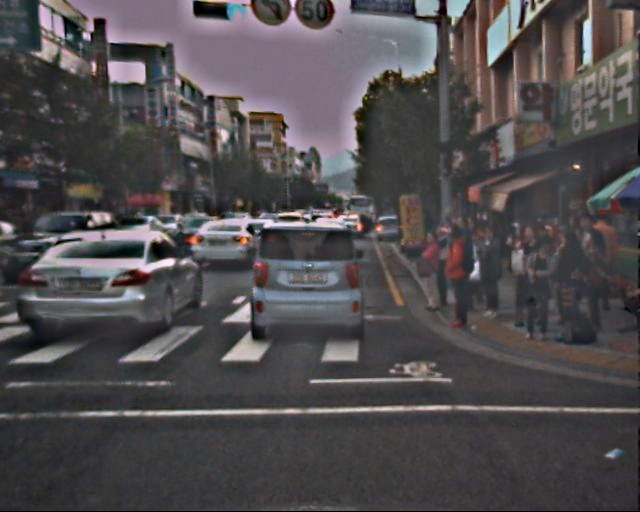person: (436, 227, 479, 331), (517, 238, 558, 338), (574, 226, 614, 324), (582, 213, 620, 306), (548, 229, 586, 321), (509, 224, 546, 315), (471, 229, 507, 317), (415, 230, 447, 307)
